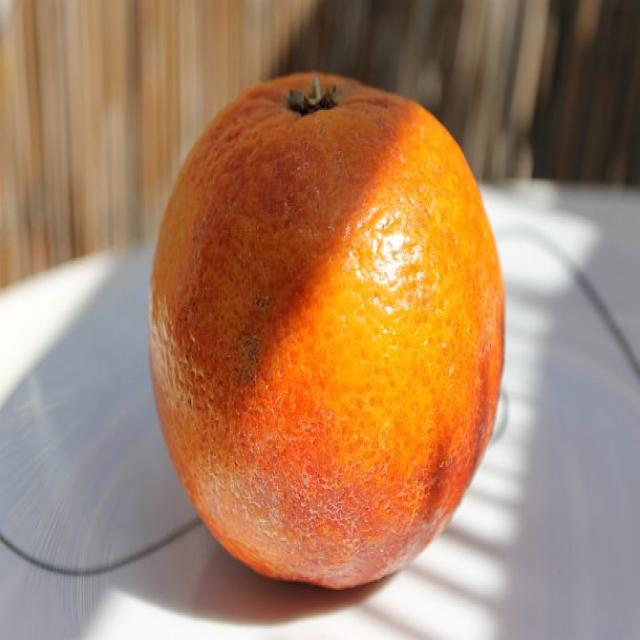Orange: (152, 68, 506, 593)
